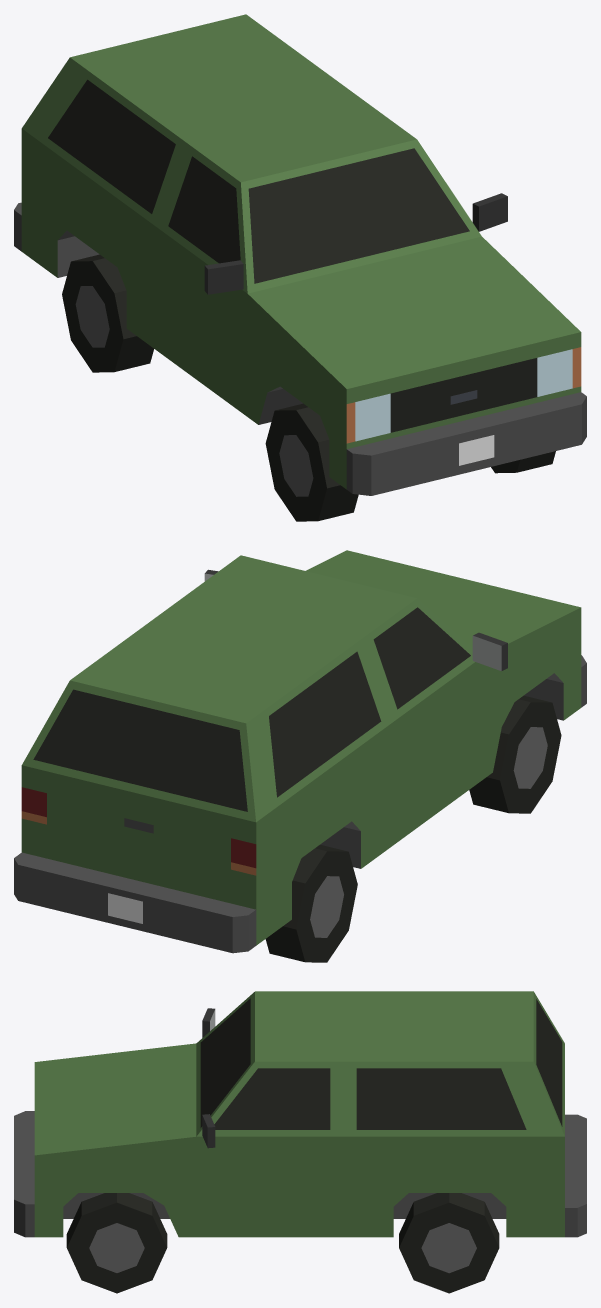
File: Veh_SUV_02_Green.glb
3 views of the same model, one above another, from view 1: azimuth 30°, elevation 25°; view 2: azimuth 150°, elevation 25°; view 3: azimuth 270°, elevation 25° (orthographic). The views are drawn at different scales.
Visible parts, largest first — view 1: SUV_02_Green, Wheel_RR, Wheel_FR, Wheel_FL; view 2: SUV_02_Green, Wheel_RR, Wheel_FR; view 3: SUV_02_Green, Wheel_FL, Wheel_RL.
Part boxes in pixels (x1,y1,x2,y2): SUV_02_Green: (14,14,586,495); Wheel_RR: (62,254,153,372); Wheel_FR: (265,403,358,521); Wheel_FL: (491,451,555,473); SUV_02_Green: (14,550,586,953); Wheel_RR: (265,844,357,962); Wheel_FR: (469,695,561,813); SUV_02_Green: (14,991,586,1237); Wheel_FL: (66,1193,167,1293); Wheel_RL: (399,1193,499,1293).
Bounding box in the file's own units: 1.27 × 1.1 × 2.58.
1 material, 1 textured.
